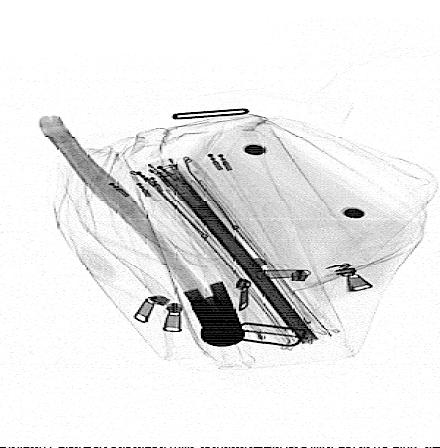Hammer: (37, 114, 246, 348)
